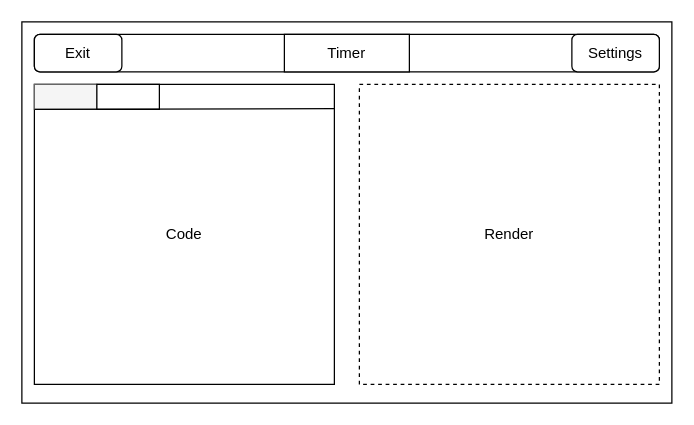
The diagram is 694 pixels wide and 425 high, and some of its shapes have lost their labels. The centre of each missing label's shape, as x and y in pixels:
CSS: (x=127, y=96)
HTML: (x=65, y=96)
